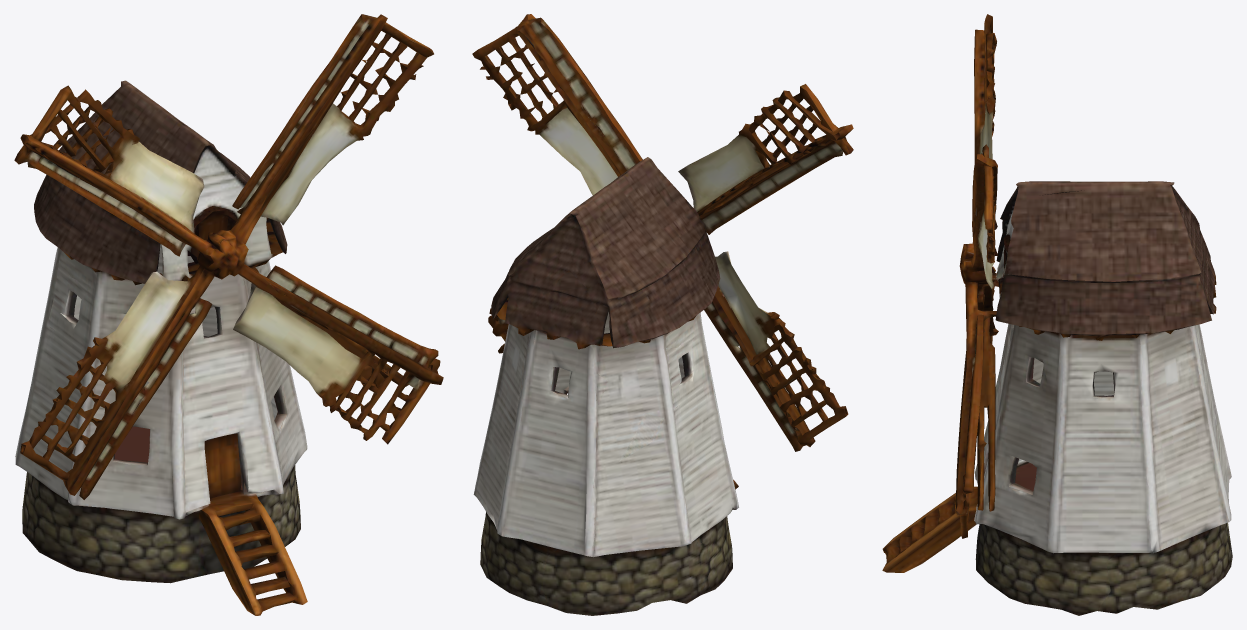
The model's file is windmill_a.glb.
3 views of the same model, side by side, from view 1: azimuth 30°, elevation 25°; view 2: azimuth 150°, elevation 25°; view 3: azimuth 270°, elevation 25° (orthographic). The views are drawn at different scales.
Visible parts, largest first — view 1: world; view 2: world; view 3: world.
Boxes of the visible parts, bbox=[...] form: world: bbox=[14, 14, 443, 615]; world: bbox=[472, 14, 853, 615]; world: bbox=[882, 14, 1232, 615].
Bounding box in the file's own units: 0.8391 × 1 × 0.6631.
Materials: 1 (1 with a texture image).
